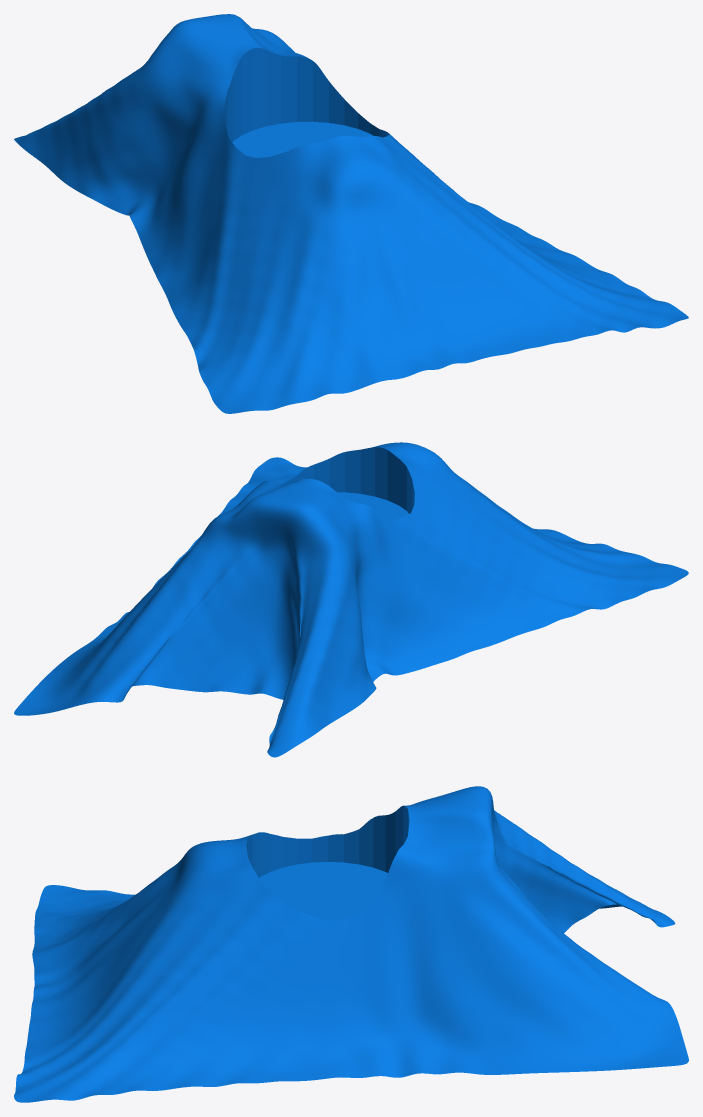
File: cover 1.fbx
3 renders of one model, top to bottom at view 1: azimuth 30°, elevation 25°; view 2: azimuth 150°, elevation 25°; view 3: azimuth 270°, elevation 25°, orthographic. The views are drawn at different scales.
Visible parts, largest first — view 1: Plane; view 2: Plane; view 3: Plane.
Boxes of the visible parts, <box> form: Plane: <box>14,14,688,413</box>; Plane: <box>14,442,688,757</box>; Plane: <box>14,786,688,1102</box>.
Size of the model in its own units: 88.46 by 36.11 by 117.
